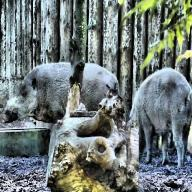boar: (1, 59, 122, 139), (110, 72, 192, 172)
